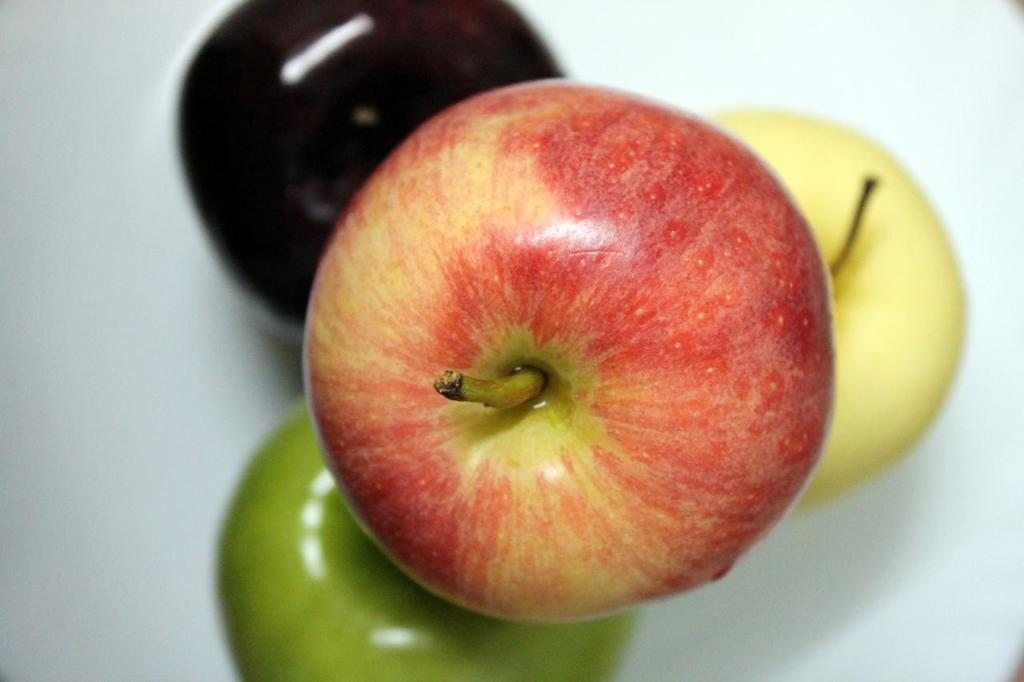Apple: (303, 77, 819, 632), (173, 0, 569, 331), (220, 395, 640, 681), (717, 113, 971, 509)
